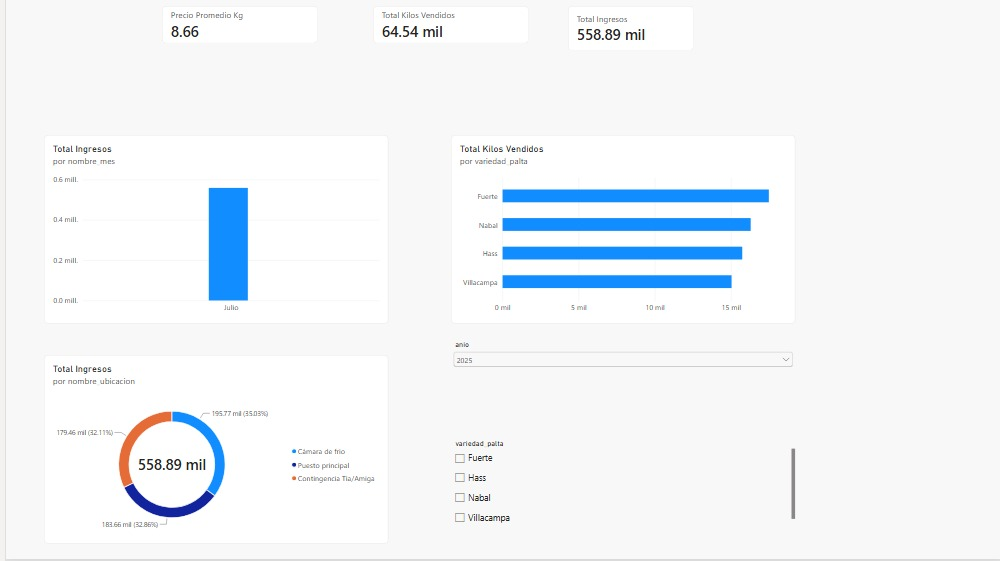

The page's visual inventory and layout, read from the dashboard file:
{"tool":"powerbi","page":{"name":"Página 1","canvas":[1920,1080],"ordinal":0},"visuals":[{"type":"cardVisual","fields":{"Data":["FACT_VENTAS.Total Ingresos"]},"box":[1084,14,242.9,86.4],"z":0},{"type":"cardVisual","fields":{"Data":["FACT_VENTAS.Total Kilos Vendidos"]},"box":[708,14,300.5,72],"z":1000},{"type":"cardVisual","fields":{"Data":["FACT_VENTAS.Precio Promedio Kg"]},"box":[300,14,300.5,72],"z":2000},{"type":"clusteredColumnChart","fields":{"Category":["DIM_TIEMPO.nombre_mes"],"Y":["FACT_VENTAS.Total Ingresos"]},"box":[74,262,664,364],"z":2001},{"type":"clusteredBarChart","fields":{"Category":["DIM_PALTA.variedad_palta"],"Y":["FACT_VENTAS.Total Kilos Vendidos"]},"box":[858,262,664,364],"z":2002},{"type":"donutChart","fields":{"Category":["DIM_UBICACION.nombre_ubicacion"],"Y":["FACT_VENTAS.Total Ingresos"]},"box":[74,686,664,364],"z":2003},{"type":"slicer","fields":{"Values":["DIM_TIEMPO.anio"]},"box":[858,658,664,150],"z":2004},{"type":"slicer","fields":{"Values":["DIM_PALTA.variedad_palta"]},"box":[858,848,664,166],"z":2005}]}

Visuals, with their boxes in screenshot pixels (x1, y1, x2, y2), scaled from the page's 1920x1080 canvas onto the 1000x561 screenshot:
cardVisual - FACT_VENTAS.Total Ingresos: locate(565, 7, 691, 52)
cardVisual - FACT_VENTAS.Total Kilos Vendidos: locate(369, 7, 525, 45)
cardVisual - FACT_VENTAS.Precio Promedio Kg: locate(156, 7, 313, 45)
clusteredColumnChart - DIM_TIEMPO.nombre_mes x FACT_VENTAS.Total Ingresos: locate(39, 136, 384, 325)
clusteredBarChart - DIM_PALTA.variedad_palta x FACT_VENTAS.Total Kilos Vendidos: locate(447, 136, 793, 325)
donutChart - DIM_UBICACION.nombre_ubicacion x FACT_VENTAS.Total Ingresos: locate(39, 356, 384, 545)
slicer - DIM_TIEMPO.anio: locate(447, 342, 793, 420)
slicer - DIM_PALTA.variedad_palta: locate(447, 440, 793, 527)
